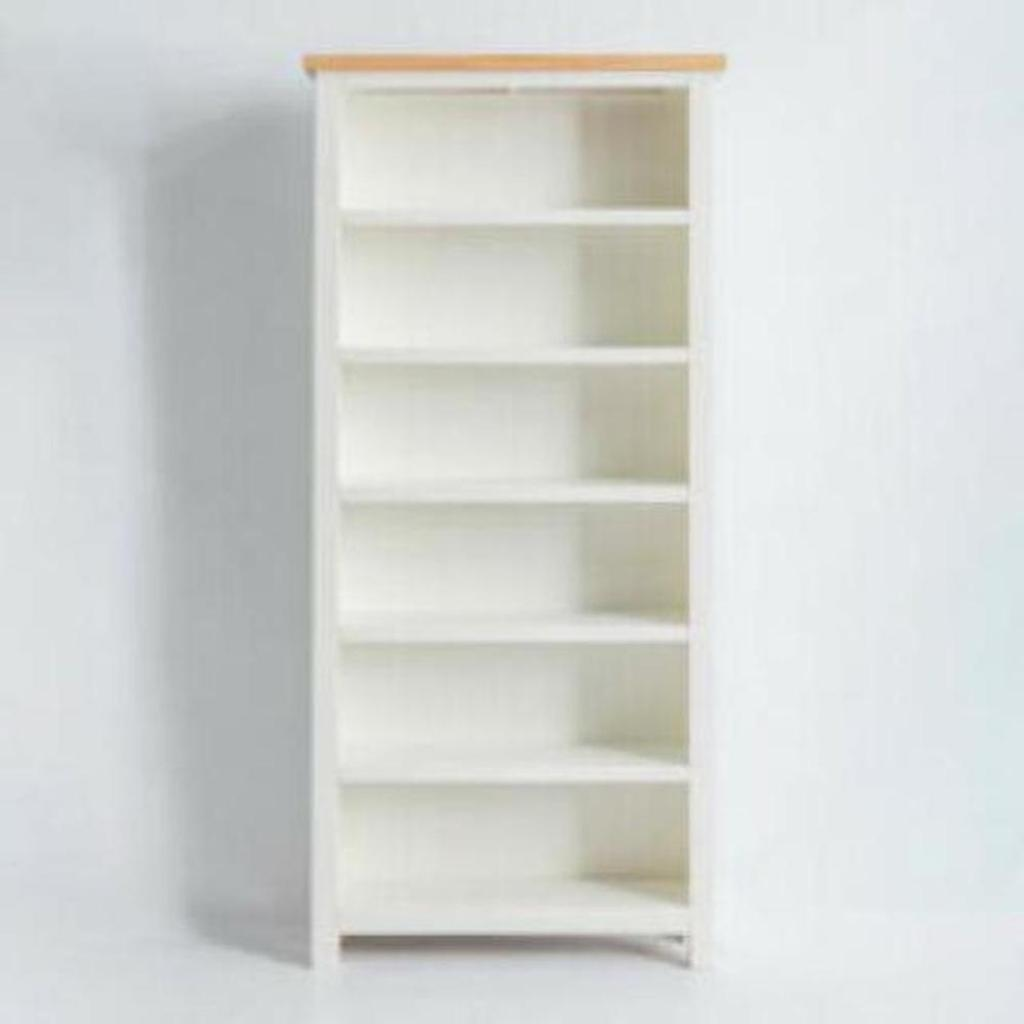lamp: (305, 47, 729, 986)
